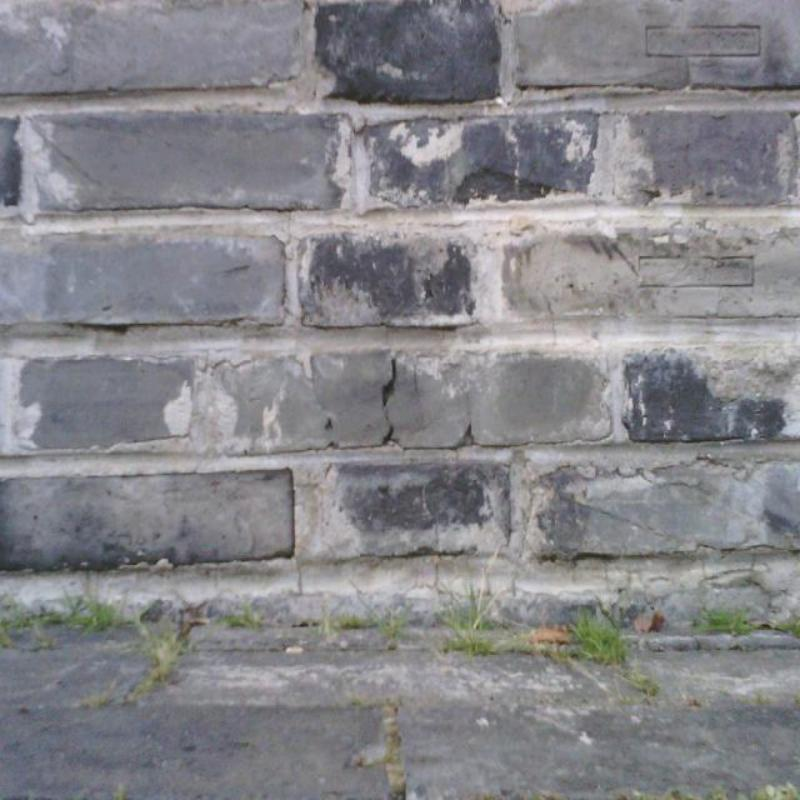crack: (382, 360, 397, 408), (382, 417, 399, 445), (457, 420, 474, 447)
